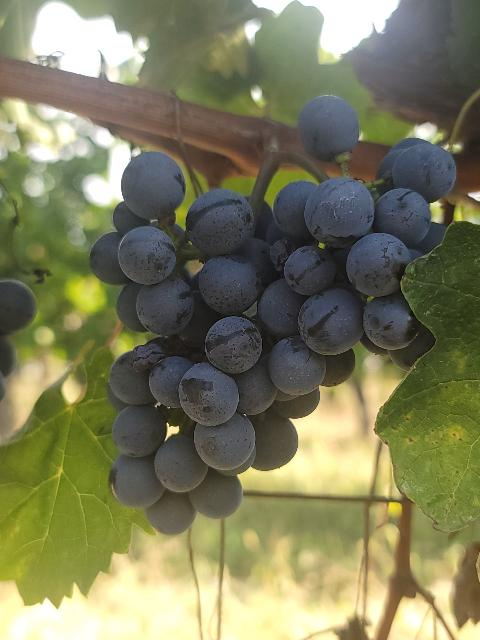grapes: (90, 139, 456, 535)
